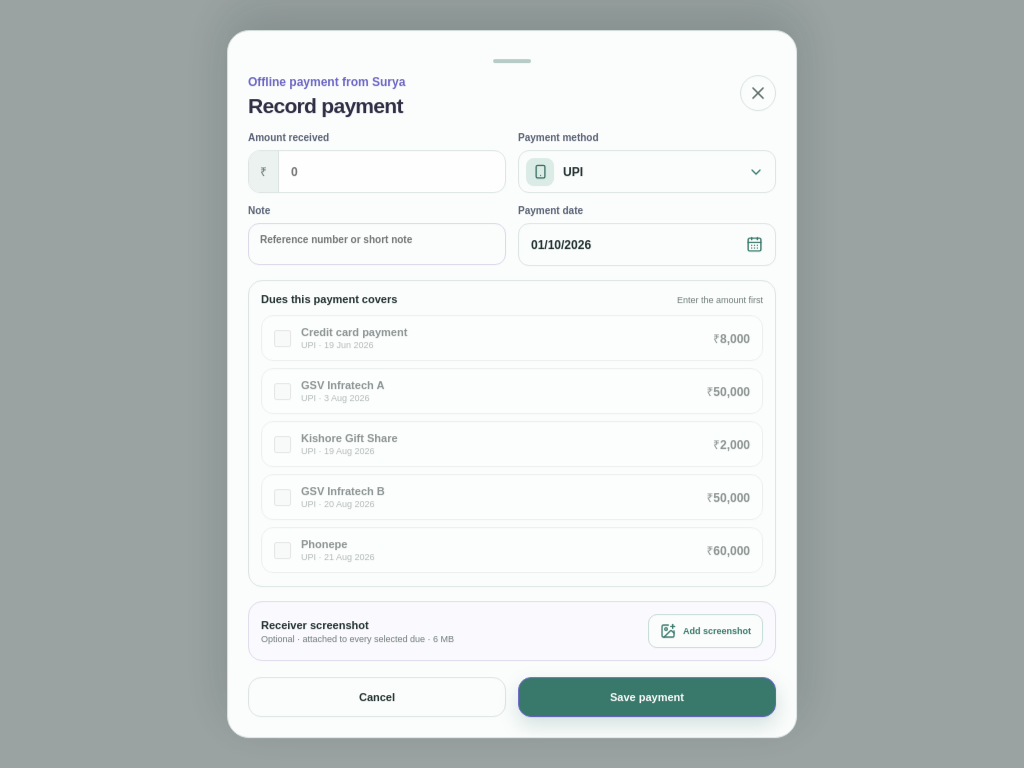
Test case: record payment across dues › asks for more dues when the amount is not fully assigned
The width and height of the screenshot is (1024, 768).
Type "10000" into the field labelled "Amount received ₹" at point(392, 172), box [279,150,505,192]
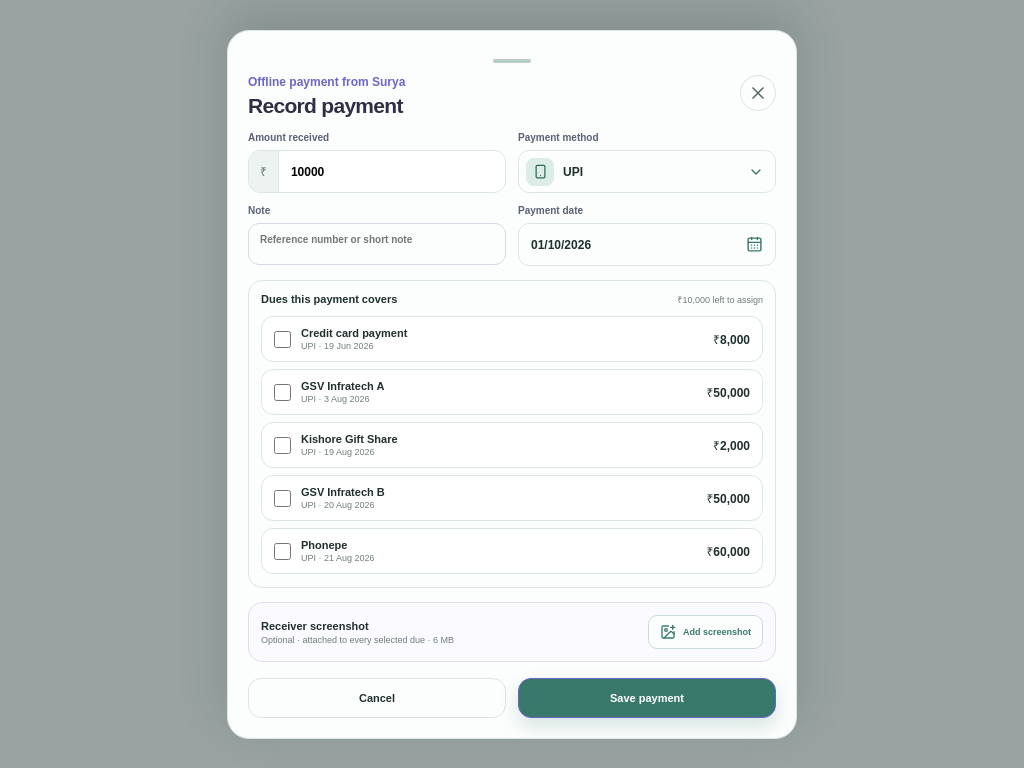
Click the checkbox labelled "Credit card payment UPI · 19 Jun 2026 ₹8,000" at point(282, 338), box [274,330,291,347]
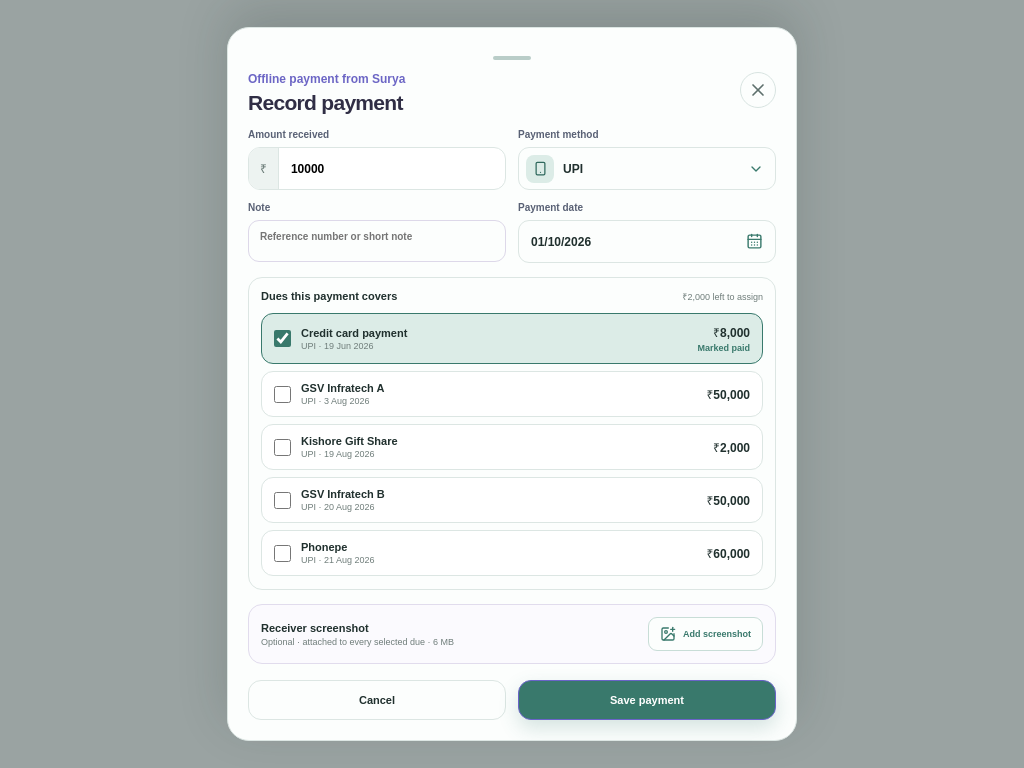
Click the button "Save payment" at point(647, 700), box [518,680,776,720]
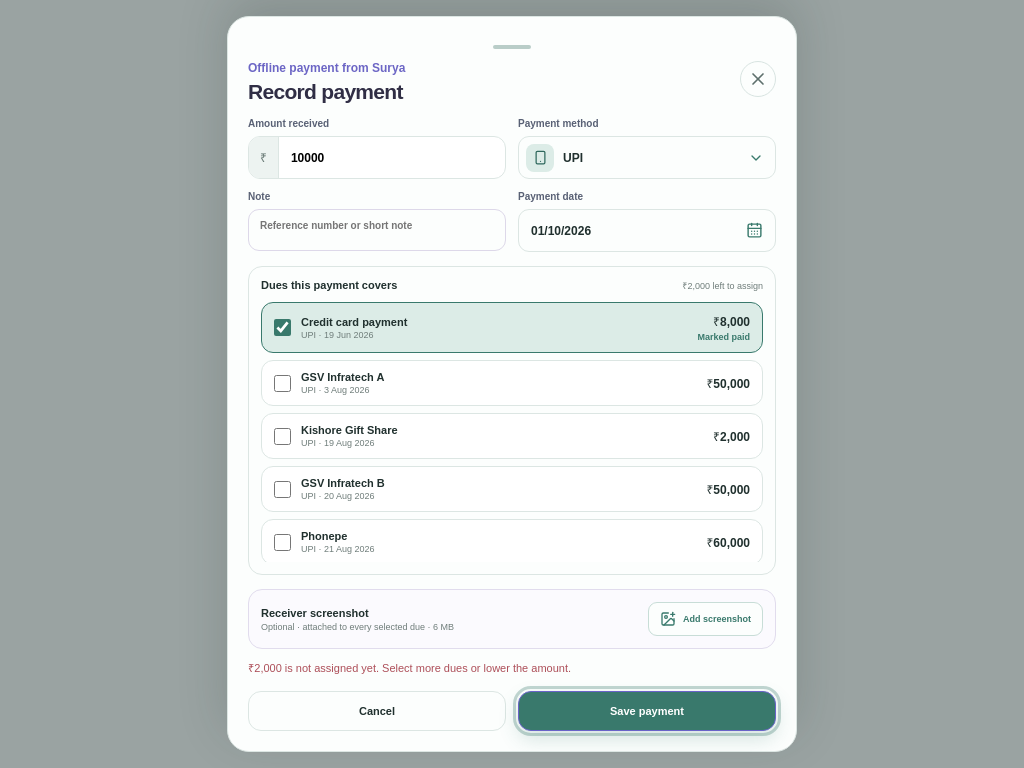
Now the message shows "₹2,000 is not assigned yet", box [248,662,571,674]
